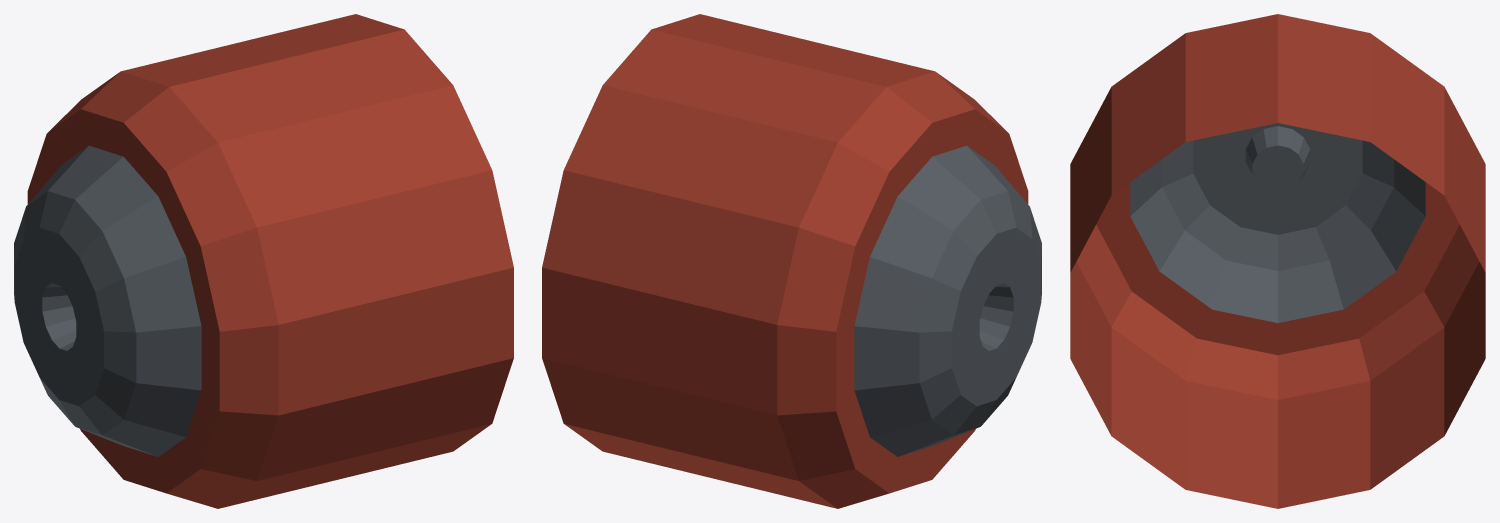
The model's file is Personal_Vehicle_03_Detail_1_Red.fbx.
3 views of the same model, side by side, from view 1: azimuth 30°, elevation 25°; view 2: azimuth 150°, elevation 25°; view 3: azimuth 270°, elevation 25° (orthographic). The views are drawn at different scales.
Parts seen in each view (by area): view 1: Personal_Vehicle_03_Detail_1_Red; view 2: Personal_Vehicle_03_Detail_1_Red; view 3: Personal_Vehicle_03_Detail_1_Red.
Boxes of the visible parts, x1,y1,x2,y2 form: Personal_Vehicle_03_Detail_1_Red: (14,14,513,508); Personal_Vehicle_03_Detail_1_Red: (542,14,1041,508); Personal_Vehicle_03_Detail_1_Red: (1070,14,1485,508).
Bounding box in the file's own units: 9.82 × 11.05 × 10.77.
1 material, 1 textured.
